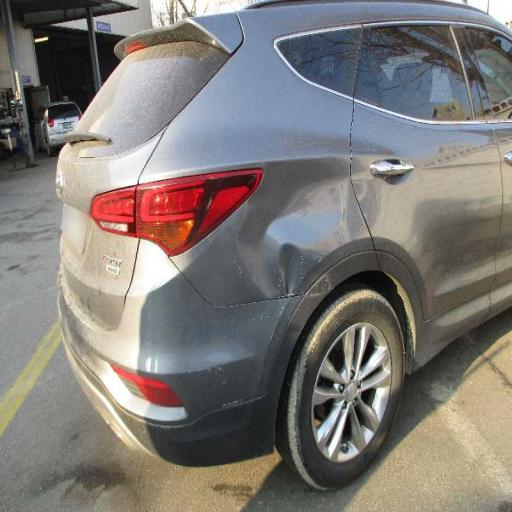dent: (242, 171, 329, 333)
scratch: (188, 328, 259, 430)
